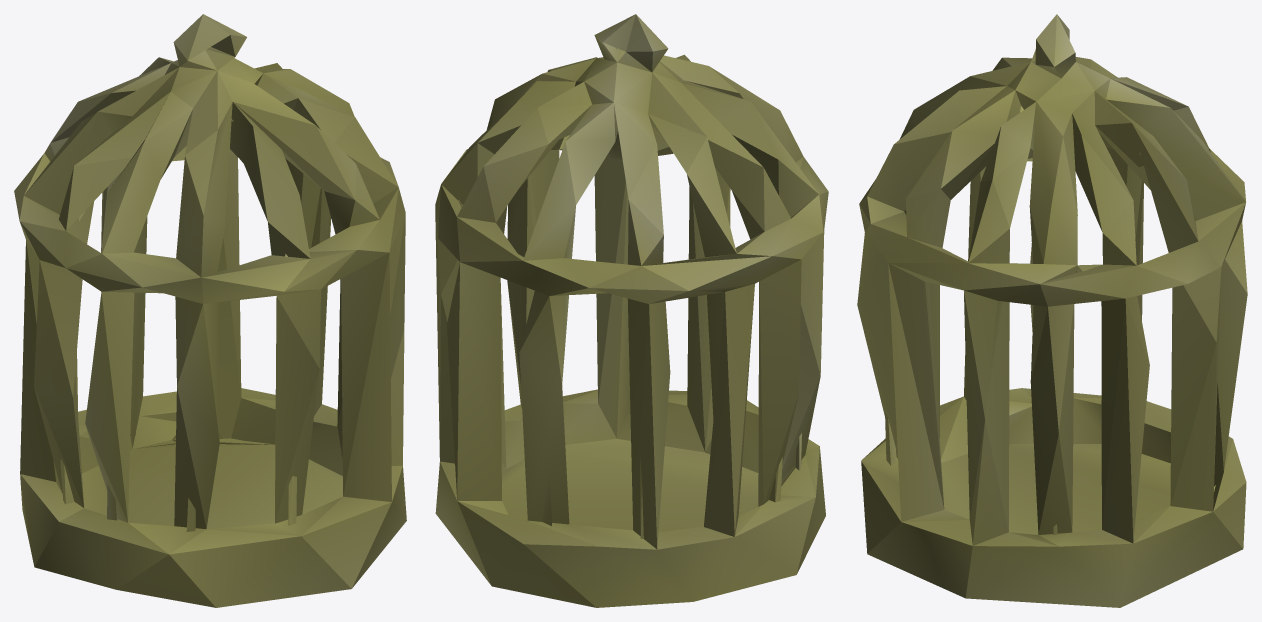
File: BirdCage01.fbx
3 renders of one model, left to right at view 1: azimuth 30°, elevation 25°; view 2: azimuth 150°, elevation 25°; view 3: azimuth 270°, elevation 25°, orthographic.
Parts seen in each view (by area): view 1: BirdCage01; view 2: BirdCage01; view 3: BirdCage01.
Part boxes in pixels (left/top/right/bottom): BirdCage01: left=14, top=14, right=406, bottom=607; BirdCage01: left=435, top=14, right=828, bottom=607; BirdCage01: left=857, top=14, right=1247, bottom=607.
Bounding box in the file's own units: 50.51 × 72.69 × 49.99.
